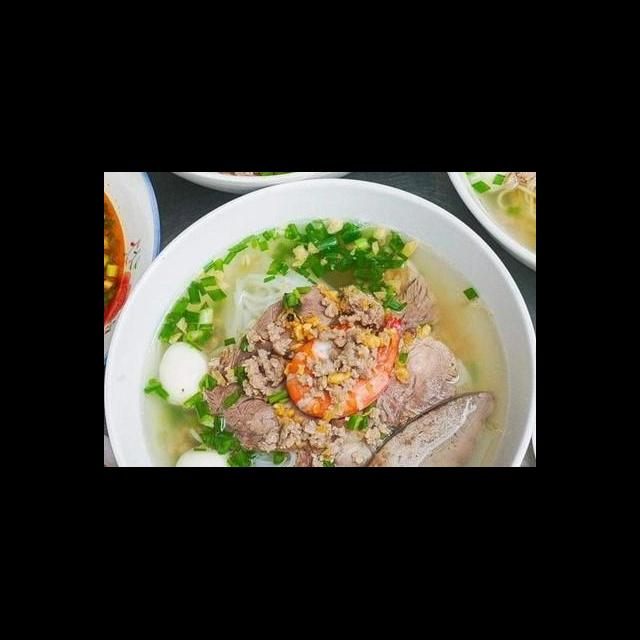banh hu tieu: (218, 254, 316, 352)
gan: (365, 387, 500, 468)
hu tieu: (134, 194, 536, 468)
thit bam: (295, 281, 388, 408), (233, 320, 295, 402), (255, 414, 350, 456), (358, 404, 395, 450)
thit heo: (200, 378, 349, 454), (225, 282, 339, 376), (370, 330, 463, 434), (369, 254, 442, 336)
tom: (280, 313, 409, 422)
trung: (156, 340, 214, 410)
